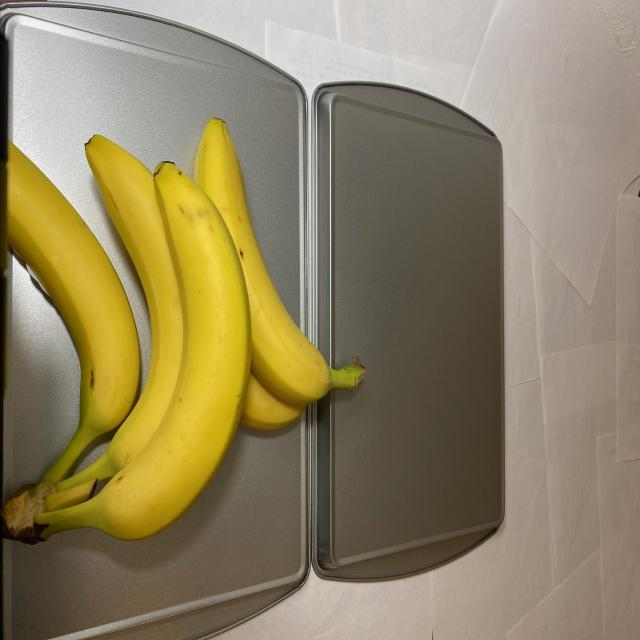Banana: (0, 109, 367, 550)
